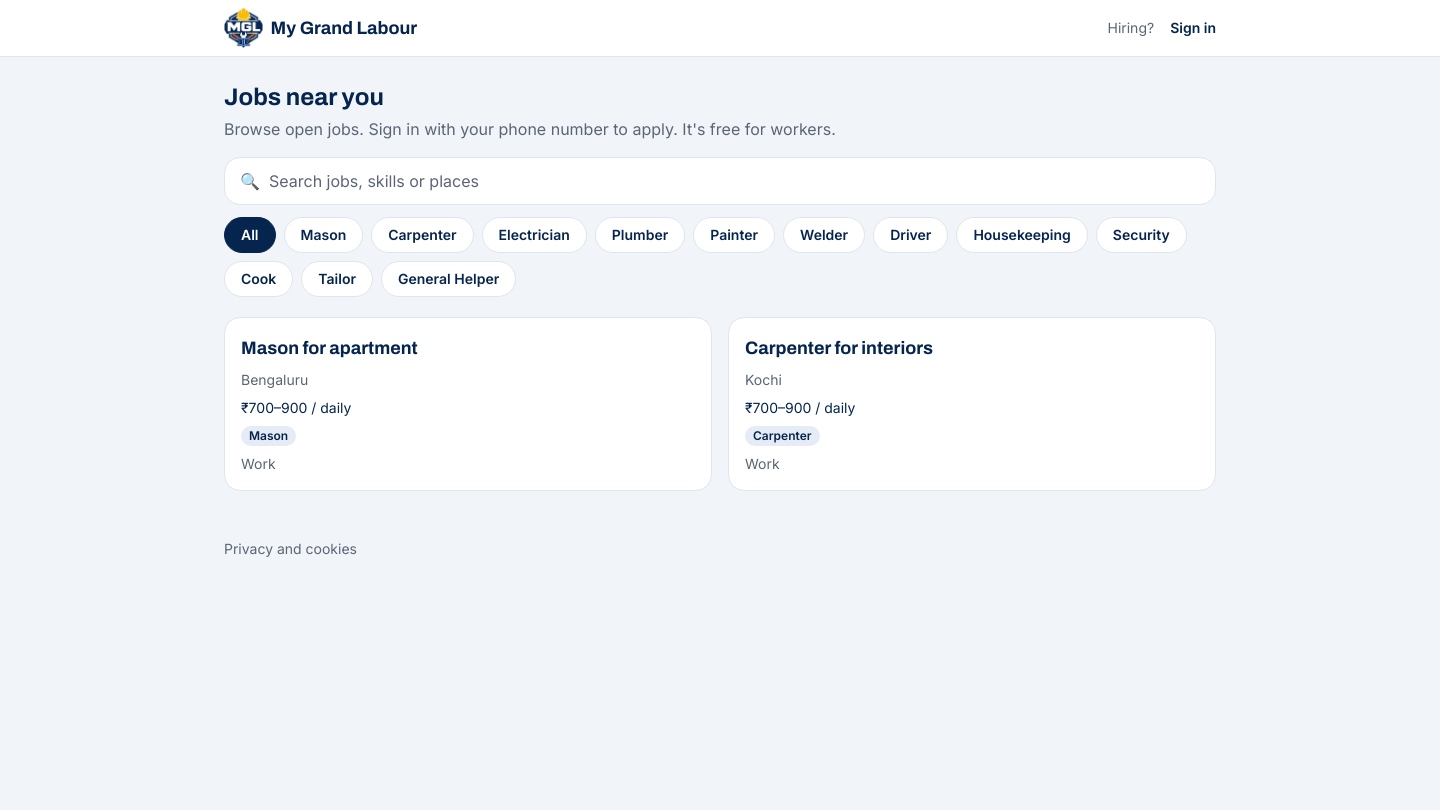
Test: public job list › asks a signed-out visitor to sign in when they open a job, but still lets them view it
The width and height of the screenshot is (1440, 810).
What coordinates should you click on to do the following:
click the heading "Mason for apartment"
I would click on:
 (329, 348)
Its box is [241,334,418,362].
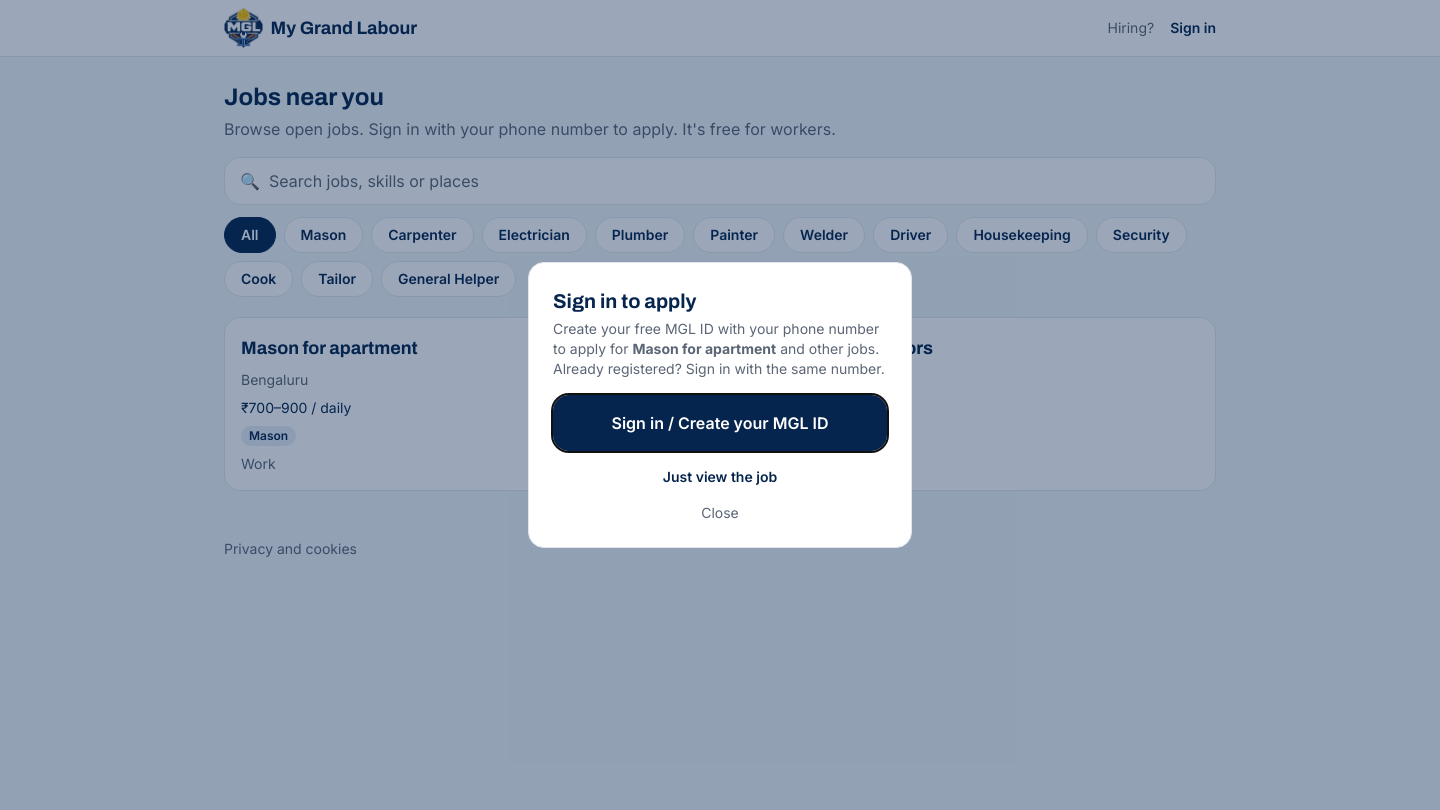
What coordinates should you click on to do the following:
click the button "Close"
I would click on:
 (720, 513)
Its box is [553,503,887,523].
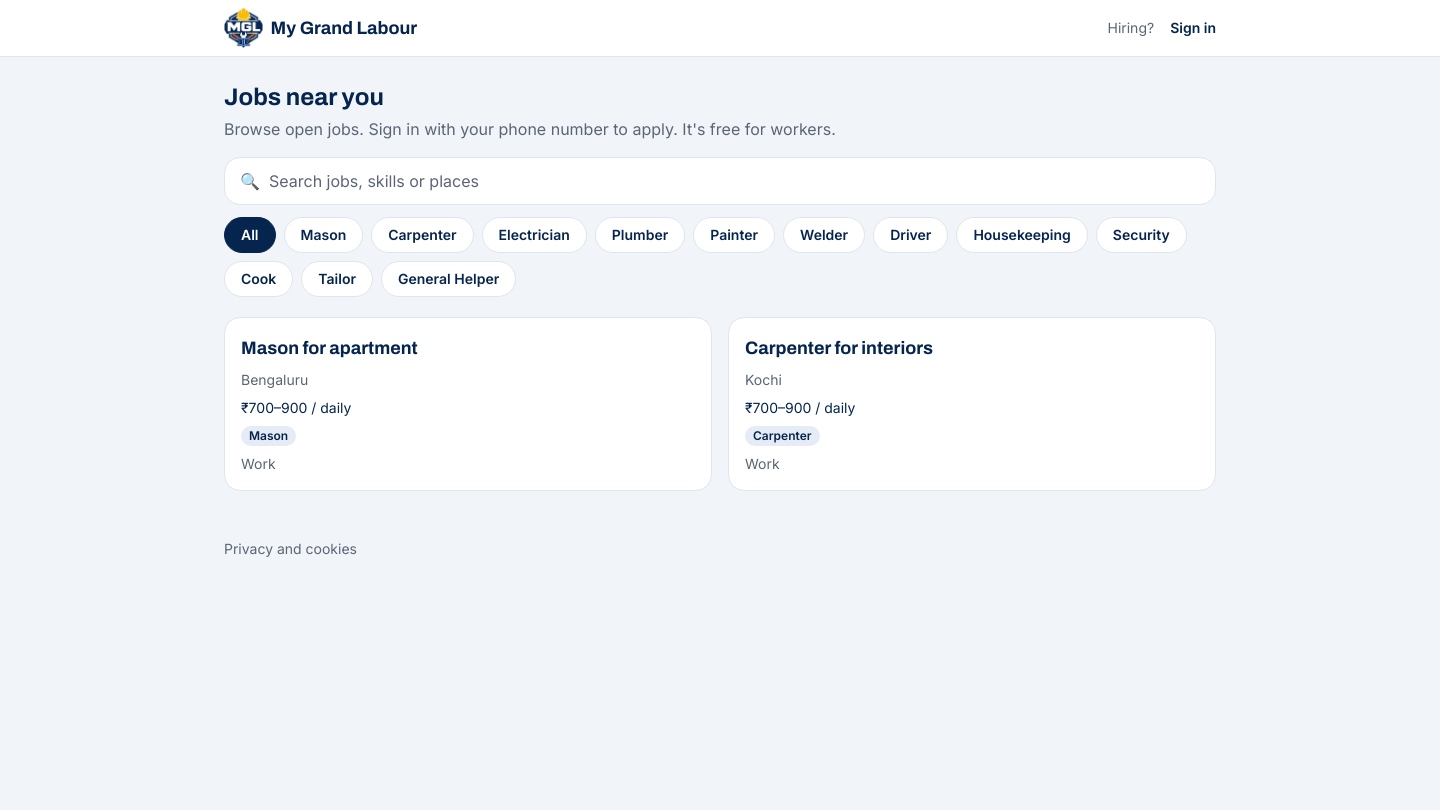
Now the dialog is gone
